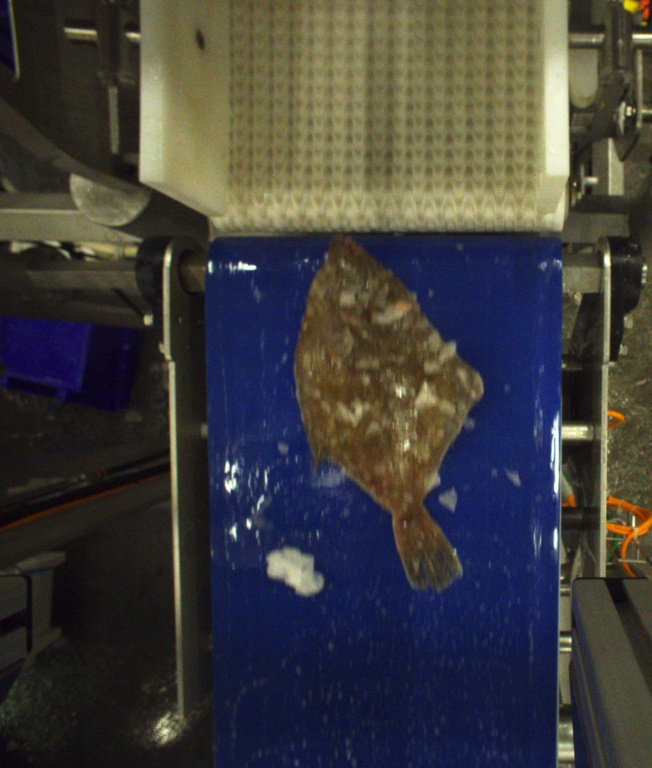PLE: (294, 234, 486, 593)
